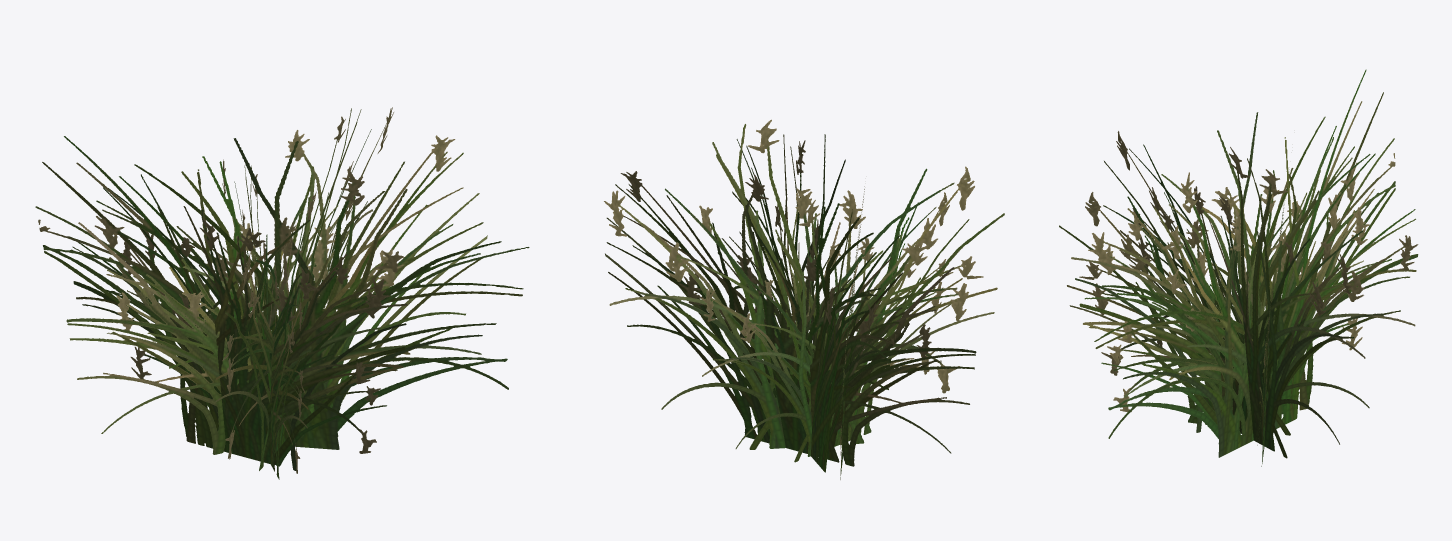
Rendered from trava_vysoka_2.glb.
3 renders of one model, left to right at view 1: azimuth 30°, elevation 25°; view 2: azimuth 150°, elevation 25°; view 3: azimuth 270°, elevation 25°, orthographic. The views are drawn at different scales.
Parts seen in each view (by area): view 1: trava_vysoka_2; view 2: trava_vysoka_2; view 3: trava_vysoka_2.
Part boxes in pixels (x1,y1,x2,y2): trava_vysoka_2: [35, 107, 529, 479]; trava_vysoka_2: [604, 119, 1004, 479]; trava_vysoka_2: [1059, 69, 1418, 466].
Size of the model in its own units: 1.08 by 0.8014 by 0.8448.
Materials: 1 (1 with a texture image).
